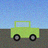vehicle: (11, 21, 39, 41)
